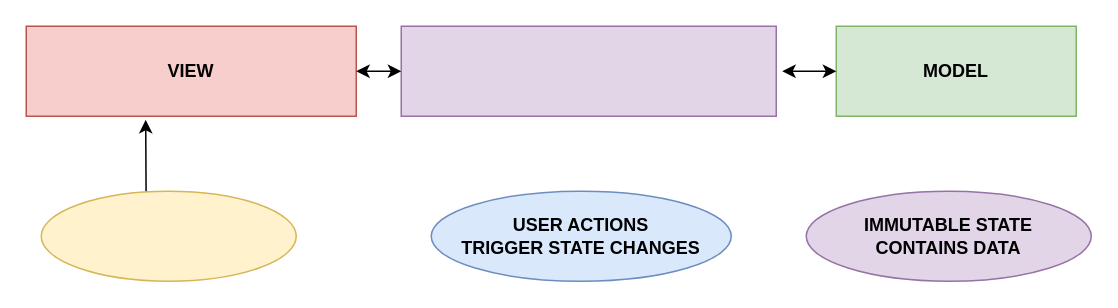
This 1118x308 diagram has some shape labels left out. Here are the shapes that lost their labels. From the top down, the centre of each, then its label:
At pixel 588 70: "INTENT".
At pixel 168 235: "RENDERS UI OBSERVES STATE".
